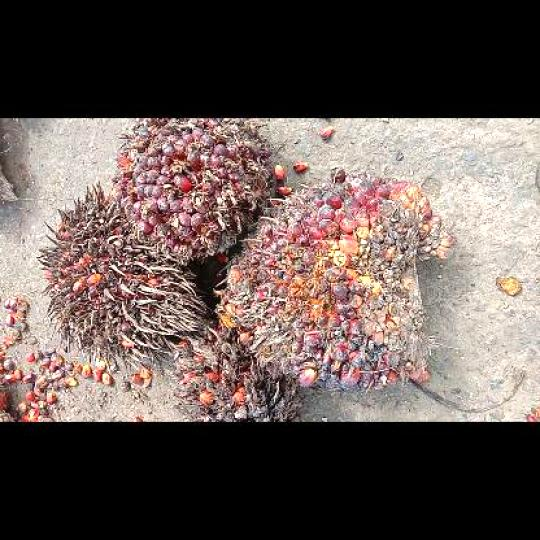masak: (214, 167, 448, 391), (112, 118, 272, 264)
terlalu masak: (38, 181, 204, 375), (171, 322, 299, 420)
